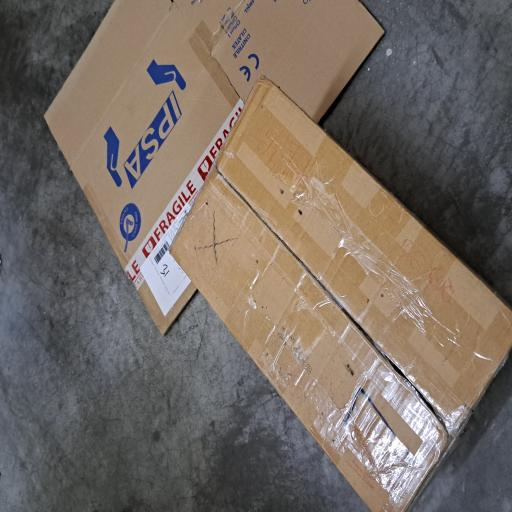cardboard: (134, 59, 384, 512), (0, 226, 327, 512)
